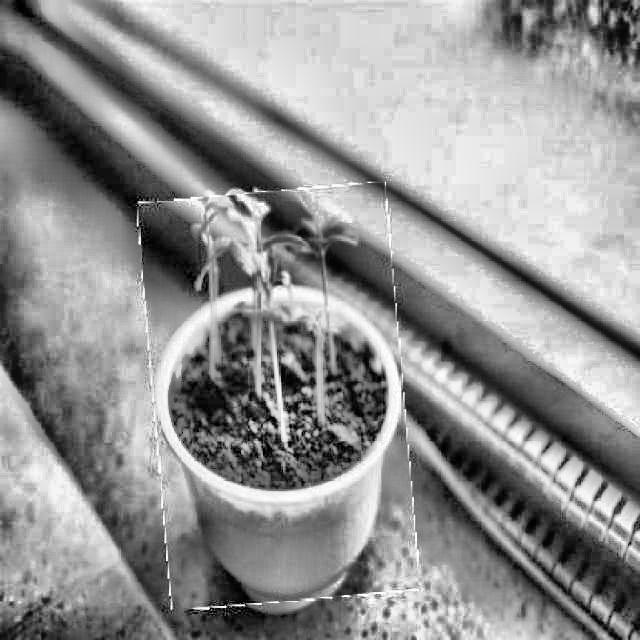plants: (144, 188, 412, 606)
